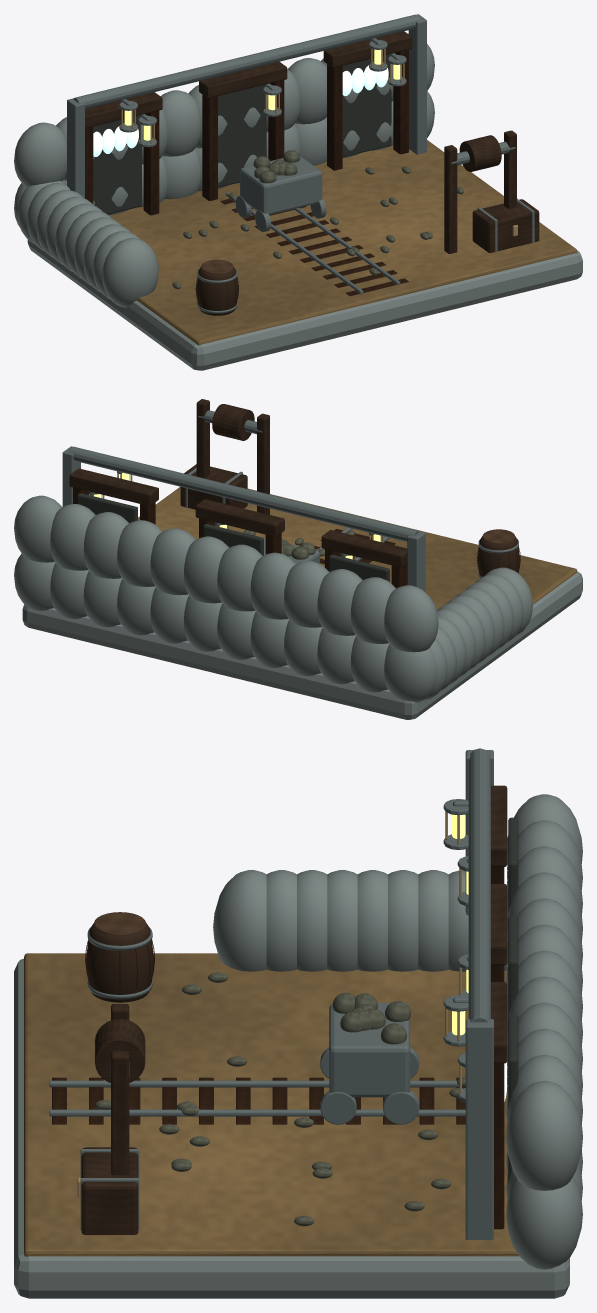
File: room-mine.glb
3 renders of one model, top to bottom at view 1: azimuth 30°, elevation 25°; view 2: azimuth 150°, elevation 25°; view 3: azimuth 270°, elevation 25°, orthographic. The views are drawn at different scales.
Parts seen in each view (by area): view 1: Part_Fine arena sand, Part_Charcoal slate.002, Part_Oak end grain, Part_Coal, Part_Blackened iron.016, Part_Blackened iron.012, Part_Oak honey.011, Part_Oak honey.002, Part_Oak honey.009, Part_Carved limestone.005, Part_Inscription, Part_Blackened iron.013; view 2: Part_Charcoal slate.002, Part_Fine arena sand, Part_Blackened iron.016, Part_Oak honey.011, Part_Oak honey.002, Part_Coal, Part_Oak end grain, Part_Oak honey.009, Part_Carved limestone.005, Part_Blackened iron.012; view 3: Part_Fine arena sand, Part_Charcoal slate.002, Part_Blackened iron.012, Part_Blackened iron.016, Part_Oak honey.011, Part_Oak end grain, Part_Carved limestone.005, Part_Oak honey.002, Part_Oak honey.009, Part_Coal, Part_Blackened iron.013, Part_Oak cut edge.003 (+1 smaller).
Boxes of the visible parts, bbox=[...] form: Part_Fine arena sand: bbox=[108, 140, 577, 345]; Part_Charcoal slate.002: bbox=[14, 33, 582, 370]; Part_Oak end grain: bbox=[85, 49, 408, 308]; Part_Coal: bbox=[93, 54, 391, 214]; Part_Blackened iron.016: bbox=[67, 14, 426, 198]; Part_Blackened iron.012: bbox=[138, 53, 406, 313]; Part_Oak honey.011: bbox=[85, 31, 412, 315]; Part_Oak honey.002: bbox=[444, 130, 516, 253]; Part_Oak honey.009: bbox=[472, 199, 539, 252]; Part_Carved limestone.005: bbox=[172, 150, 463, 289]; Part_Inscription: bbox=[93, 65, 388, 156]; Part_Blackened iron.013: bbox=[119, 38, 387, 132]; Part_Charcoal slate.002: bbox=[14, 495, 582, 719]; Part_Fine arena sand: bbox=[138, 486, 577, 610]; Part_Blackened iron.016: bbox=[62, 446, 425, 592]; Part_Oak honey.011: bbox=[69, 468, 520, 576]; Part_Oak honey.002: bbox=[196, 399, 269, 514]; Part_Coal: bbox=[77, 493, 389, 581]; Part_Oak end grain: bbox=[73, 487, 520, 588]; Part_Oak honey.009: bbox=[180, 464, 247, 509]; Part_Carved limestone.005: bbox=[243, 530, 354, 559]; Part_Blackened iron.012: bbox=[88, 491, 518, 578]; Part_Fine arena sand: bbox=[24, 953, 519, 1256]; Part_Charcoal slate.002: bbox=[14, 794, 582, 1298]; Part_Blackened iron.012: bbox=[49, 856, 468, 1124]; Part_Blackened iron.016: bbox=[465, 748, 493, 1239]; Part_Oak honey.011: bbox=[85, 785, 507, 1063]; Part_Oak end grain: bbox=[52, 867, 504, 1229]; Part_Carved limestone.005: bbox=[95, 972, 465, 1226]; Part_Oak honey.002: bbox=[95, 1004, 145, 1175]; Part_Oak honey.009: bbox=[81, 1147, 138, 1234]; Part_Coal: bbox=[508, 817, 518, 1183]; Part_Blackened iron.013: bbox=[443, 799, 468, 1046]; Part_Oak cut edge.003: bbox=[94, 912, 146, 935].
Bounding box in the file's own units: 7.72 × 2.93 × 5.63.
Materials: 11 (5 with a texture image).
